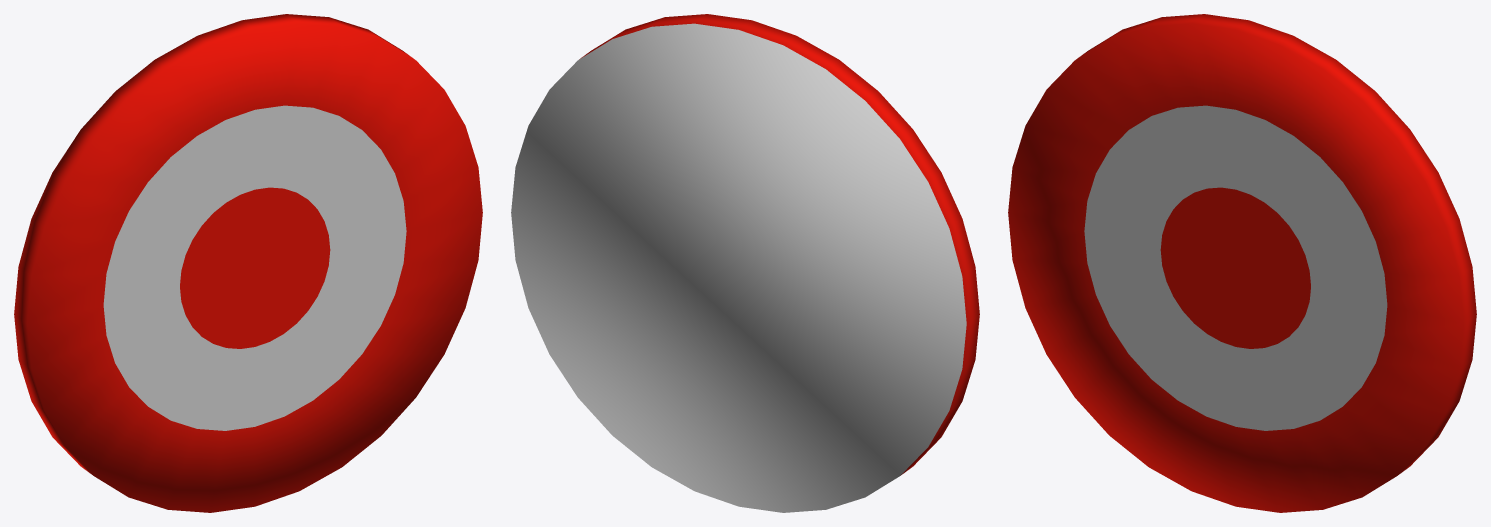
The model's file is TargetCircle.fbx.
The picture shows the model from 3 angles, left to right: view 1: azimuth 30°, elevation 25°; view 2: azimuth 150°, elevation 25°; view 3: azimuth 330°, elevation 25°; orthographic projection.
Parts seen in each view (by area): view 1: Circle; view 2: Circle; view 3: Circle.
Boxes of the visible parts, bbox=[...] form: Circle: bbox=[14, 14, 482, 512]; Circle: bbox=[511, 14, 979, 512]; Circle: bbox=[1008, 14, 1476, 512].
Size of the model in its own units: 600 by 600 by 30.
